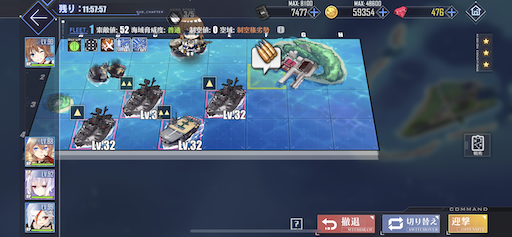lv1: (201, 76, 246, 118), (71, 105, 116, 147)
lv2: (157, 106, 202, 151), (119, 76, 162, 116)
